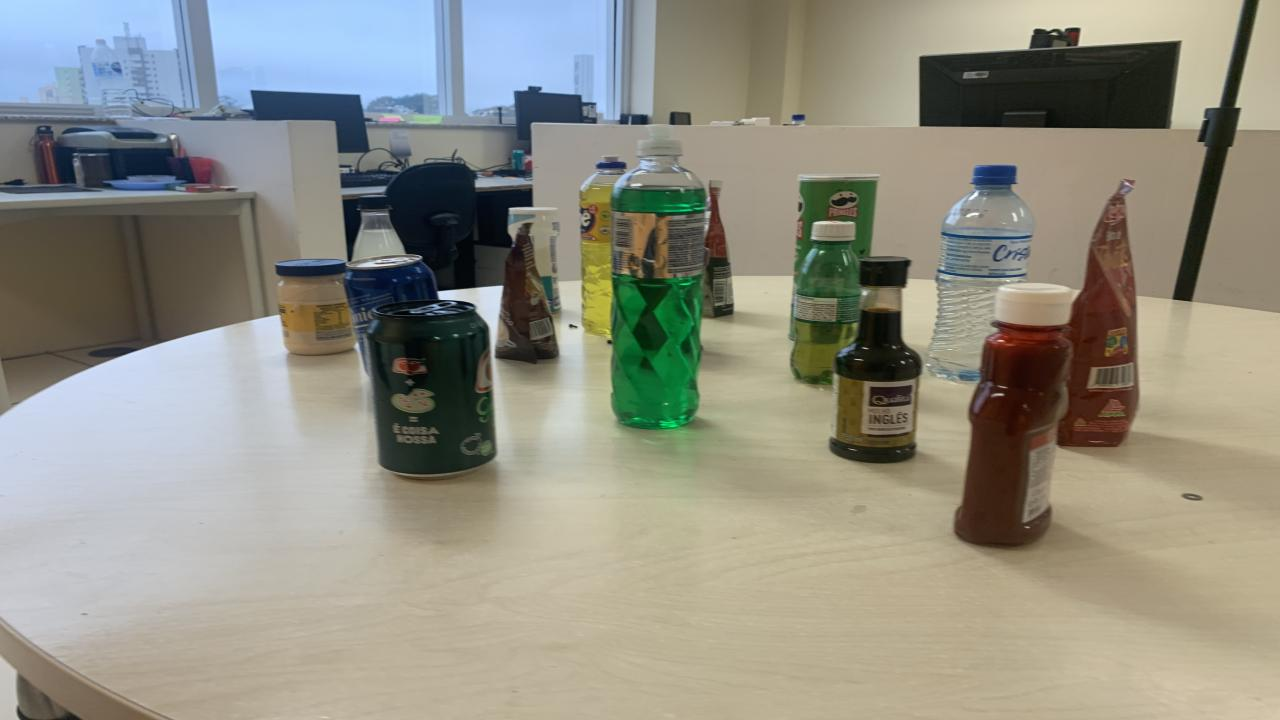Cleaner-Cleanup_Items: (508, 206, 562, 313)
Coffee-Pantry_Items: (495, 221, 558, 364)
Detergent-Cleanup_Items: (610, 126, 708, 429), (580, 156, 625, 336)
English_Sauce-Pantry_Items: (830, 257, 922, 463)
Guarana-Drinks: (790, 221, 860, 384)
Guarana_Can-Drinks: (365, 300, 495, 478)
Ketchup-Pantry_Items: (955, 283, 1072, 546)
Mayonnaise-Pantry_Items: (275, 259, 355, 354)
Pringles-Snacks: (795, 174, 880, 272)
Tomato_Sauce-Pantry_Items: (1058, 180, 1140, 446), (702, 180, 735, 317)
Tonic-Drinks: (345, 255, 438, 358)
Water_Bottle-Drinks: (928, 165, 1035, 381)
